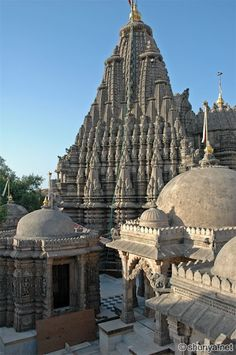Temple: (54, 11, 204, 246)
